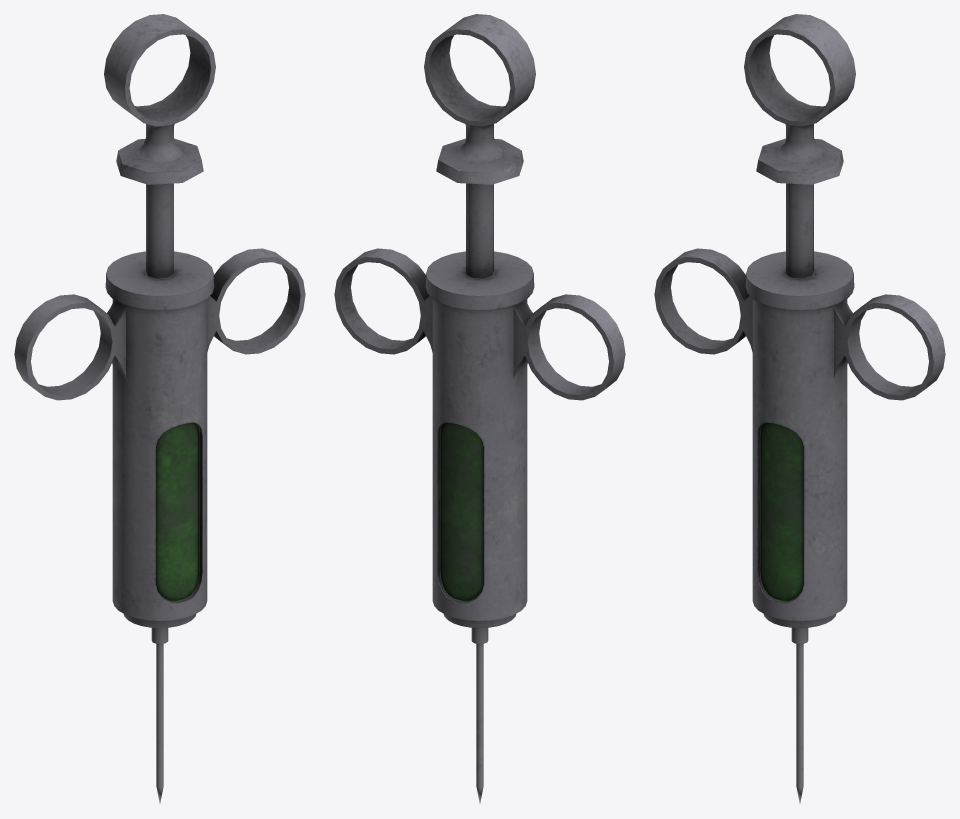
The model's file is Syringe_03.fbx.
3 views of the same model, side by side, from view 1: azimuth 30°, elevation 25°; view 2: azimuth 150°, elevation 25°; view 3: azimuth 330°, elevation 25° (orthographic).
Visible parts, largest first — view 1: Syringe_2; view 2: Syringe_2; view 3: Syringe_2.
Part boxes in pixels (box(x1,y1,x2,y2)): Syringe_2: box(14, 14, 305, 803); Syringe_2: box(334, 14, 625, 803); Syringe_2: box(654, 14, 945, 803).
Bounding box in the file's own units: 7.86 × 21.01 × 2.64.
Materials: 1 (1 with a texture image).
